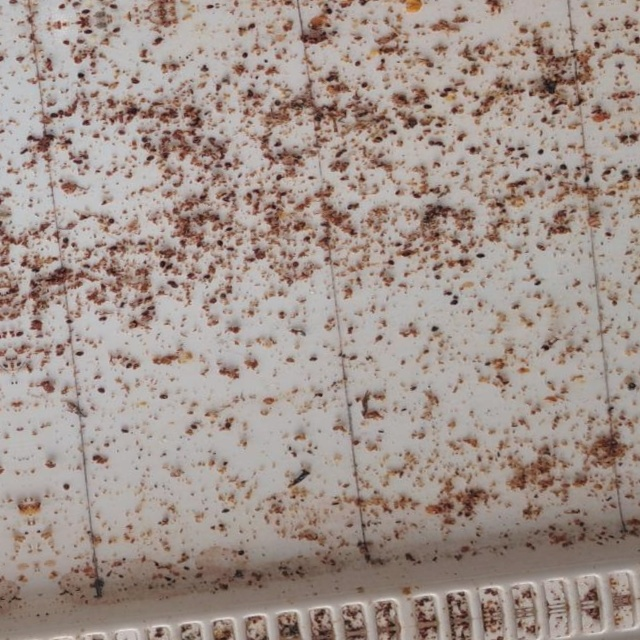varroa: (153, 36, 167, 45), (442, 290, 456, 299), (45, 134, 58, 142), (245, 257, 258, 265), (327, 6, 337, 16), (592, 40, 602, 50), (146, 154, 157, 163), (376, 135, 387, 144), (424, 102, 435, 111), (61, 236, 72, 245), (186, 271, 197, 280), (413, 192, 424, 201), (476, 252, 487, 261), (324, 76, 338, 83), (346, 355, 360, 362), (213, 162, 225, 170), (301, 235, 313, 243), (110, 27, 123, 34), (240, 51, 250, 60), (620, 167, 630, 176), (98, 387, 108, 396), (64, 139, 75, 147), (247, 23, 258, 31), (118, 129, 129, 137), (108, 82, 119, 90), (435, 141, 446, 149), (107, 218, 118, 226), (98, 316, 109, 324), (251, 188, 262, 196), (401, 251, 412, 259), (432, 264, 443, 272), (431, 325, 442, 333), (308, 356, 319, 364), (83, 28, 95, 35), (49, 113, 61, 120), (14, 331, 26, 338), (159, 394, 171, 401), (159, 260, 168, 269), (224, 421, 233, 430), (141, 136, 151, 144), (425, 61, 435, 69), (210, 297, 220, 305), (291, 261, 301, 269), (387, 259, 397, 267), (605, 230, 615, 238), (200, 67, 211, 74), (128, 107, 139, 114), (390, 129, 401, 136), (486, 95, 497, 102), (506, 147, 517, 154), (81, 264, 92, 271), (226, 246, 237, 253), (203, 275, 214, 282), (148, 305, 159, 312), (224, 226, 235, 233), (517, 180, 528, 187), (78, 72, 87, 80), (16, 56, 28, 62), (362, 82, 371, 90), (248, 92, 256, 101), (107, 98, 116, 106), (163, 130, 175, 136), (184, 146, 196, 152), (217, 240, 225, 249), (246, 192, 254, 201), (200, 192, 209, 200), (347, 203, 355, 212), (545, 175, 553, 184), (560, 164, 569, 172), (189, 424, 198, 432), (124, 362, 133, 370), (26, 135, 36, 142), (353, 61, 363, 68), (82, 119, 92, 126), (436, 123, 446, 130), (32, 267, 42, 274), (171, 283, 181, 290), (167, 279, 177, 286), (141, 310, 151, 317), (451, 299, 461, 306), (375, 334, 385, 341), (284, 357, 294, 364), (92, 133, 103, 139), (192, 138, 203, 144), (443, 87, 454, 93), (138, 241, 149, 247), (228, 192, 239, 198), (179, 239, 187, 247), (435, 274, 443, 282), (63, 483, 71, 491), (225, 162, 234, 169), (450, 108, 459, 115), (165, 265, 174, 272), (196, 242, 205, 249), (132, 80, 142, 86), (439, 93, 449, 99), (520, 153, 530, 159), (65, 319, 75, 325), (76, 352, 86, 358), (131, 139, 139, 146), (429, 139, 436, 147), (540, 117, 548, 124), (598, 28, 606, 35), (110, 245, 118, 252), (220, 293, 227, 301), (276, 174, 283, 182), (396, 241, 404, 248), (543, 344, 551, 351), (238, 550, 246, 557), (208, 137, 217, 143), (551, 109, 560, 115), (56, 351, 65, 357), (275, 100, 282, 107), (495, 202, 502, 209), (470, 148, 478, 154), (537, 149, 545, 155), (434, 233, 442, 239), (534, 280, 542, 286), (501, 208, 508, 214), (603, 171, 610, 177)
